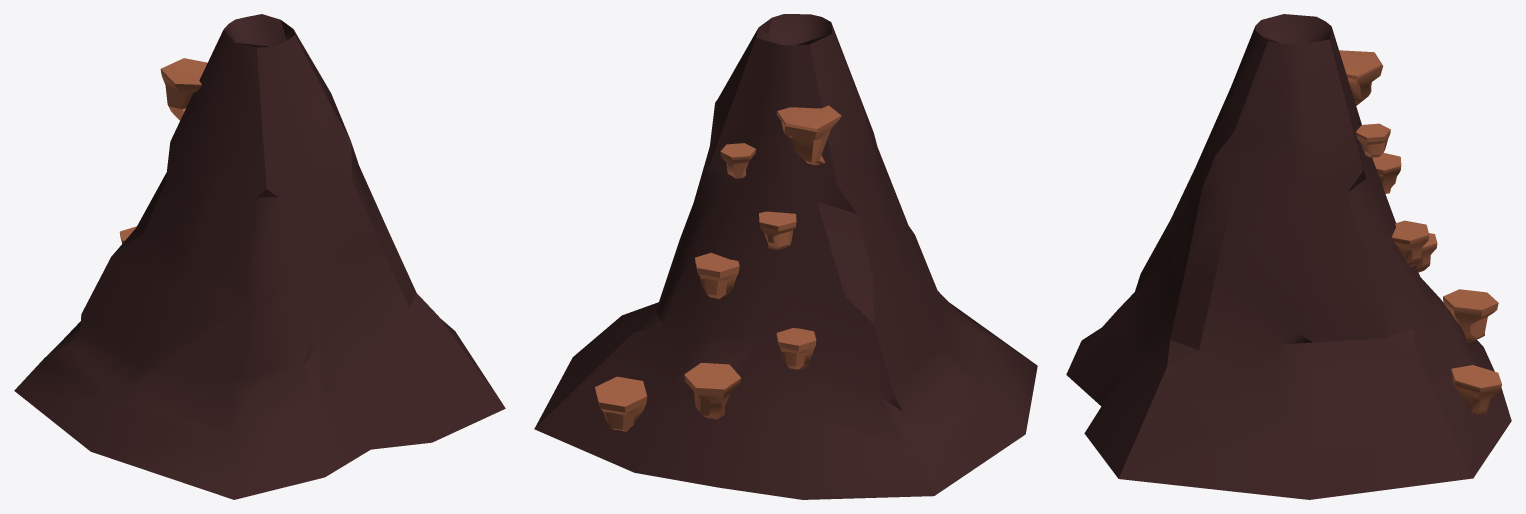
File: Volcano_with_platforms.fbx
3 renders of one model, left to right at view 1: azimuth 30°, elevation 25°; view 2: azimuth 150°, elevation 25°; view 3: azimuth 270°, elevation 25°, orthographic. The views are drawn at different scales.
Parts seen in each view (by area): view 1: MESH_Volcano, MESH_Volcano_7; view 2: MESH_Volcano, MESH_Volcano_7, MESH_Volcano_2, MESH_Volcano_1, MESH_Volcano_4, MESH_Volcano_3, MESH_Volcano_5, MESH_Volcano_6; view 3: MESH_Volcano, MESH_Volcano_2, MESH_Volcano_1, MESH_Volcano_7, MESH_Volcano_4, MESH_Volcano_6, MESH_Volcano_5.
Boxes of the visible parts, x1,y1,x2,y2 form: MESH_Volcano: (14,14,505,499); MESH_Volcano_7: (160,58,207,120); MESH_Volcano: (534,14,1037,499); MESH_Volcano_7: (776,105,841,164); MESH_Volcano_2: (684,363,740,419); MESH_Volcano_1: (595,376,647,431); MESH_Volcano_4: (695,252,739,298); MESH_Volcano_3: (776,328,816,369); MESH_Volcano_5: (759,211,796,249); MESH_Volcano_6: (720,143,755,178); MESH_Volcano: (1066,14,1511,499); MESH_Volcano_2: (1443,289,1498,342); MESH_Volcano_1: (1451,365,1501,415); MESH_Volcano_7: (1339,50,1382,105); MESH_Volcano_4: (1391,220,1429,266); MESH_Volcano_6: (1355,123,1390,157); MESH_Volcano_5: (1372,152,1401,193).
Bounding box in the file's own units: 103 × 89.89 × 96.59.
